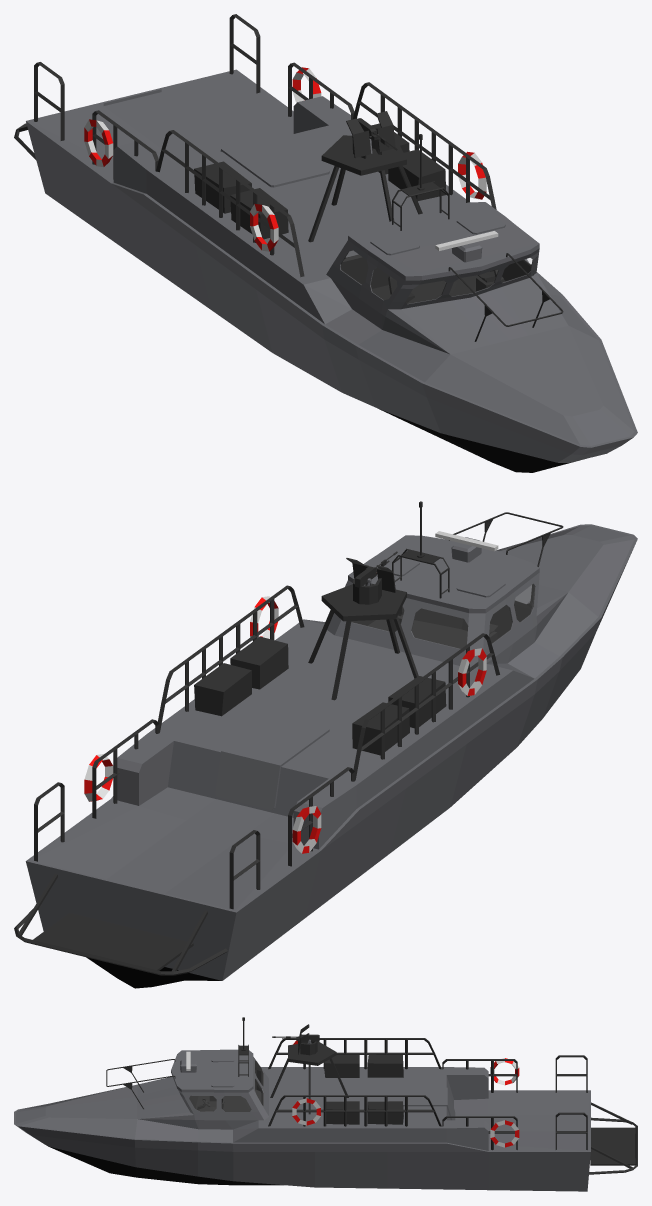
3 renders of one model, top to bottom at view 1: azimuth 30°, elevation 25°; view 2: azimuth 150°, elevation 25°; view 3: azimuth 270°, elevation 25°, orthographic. The views are drawn at different scales.
Parts seen in each view (by area): view 1: Cube.027, Cube.028, Cylinder.003, Cube.033, Cube.031, Cube.035, Cube.029; view 2: Cube.027, Cube.028, Cylinder.003, Cube.033, Cube.031, Cube.029; view 3: Cube.027, Cube.028, Cube.033, Cylinder.003, Cube.031, Cube.035.
Part boxes in pixels (x1,y1,x2,y2): Cube.027: (14, 14, 637, 472); Cube.028: (220, 134, 329, 187); Cylinder.003: (308, 135, 422, 242); Cube.033: (340, 252, 533, 303); Cube.031: (346, 111, 397, 157); Cube.035: (456, 212, 505, 234); Cube.029: (370, 233, 419, 255); Cube.027: (14, 501, 637, 988); Cube.028: (215, 714, 329, 810); Cylinder.003: (308, 583, 418, 700); Cube.033: (351, 584, 534, 648); Cube.031: (346, 551, 397, 592); Cube.029: (456, 575, 505, 597); Cube.027: (14, 1017, 637, 1191); Cube.028: (386, 1087, 455, 1120); Cube.033: (189, 1061, 263, 1111); Cylinder.003: (270, 1041, 348, 1114); Cube.031: (272, 1024, 319, 1054); Cube.035: (211, 1076, 234, 1087).
Bounding box in the file's own units: 797 × 979 × 3337.
